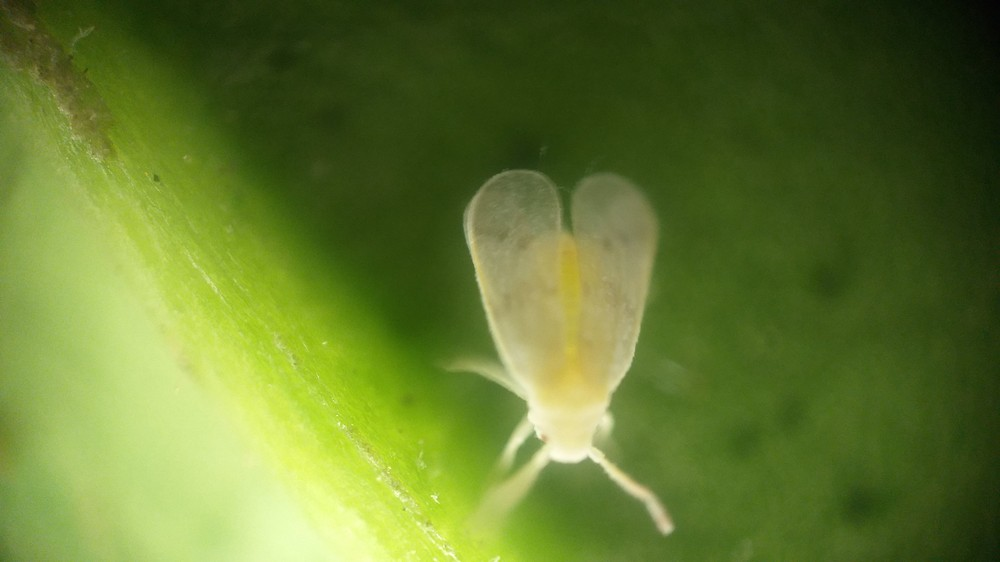Mosca Blanca: (413, 168, 714, 552)
